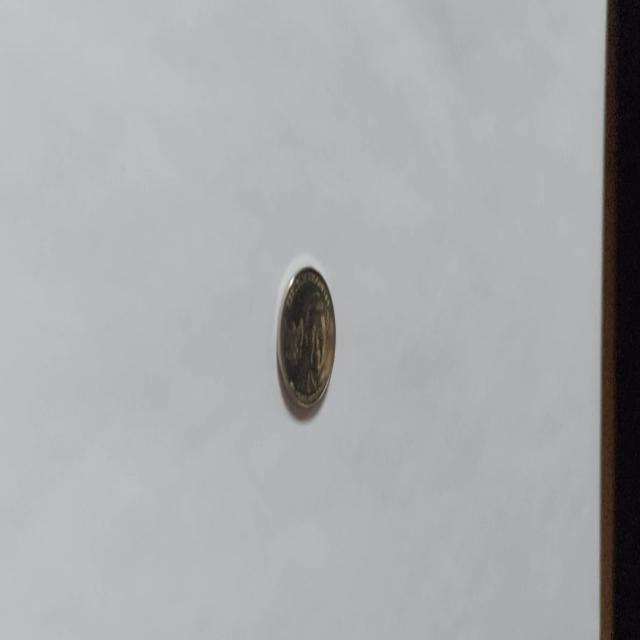seribu rupiah koin: (275, 263, 337, 411)
